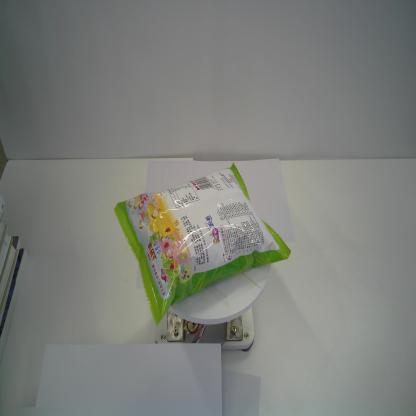Puffed Food: (114, 161, 291, 329)
